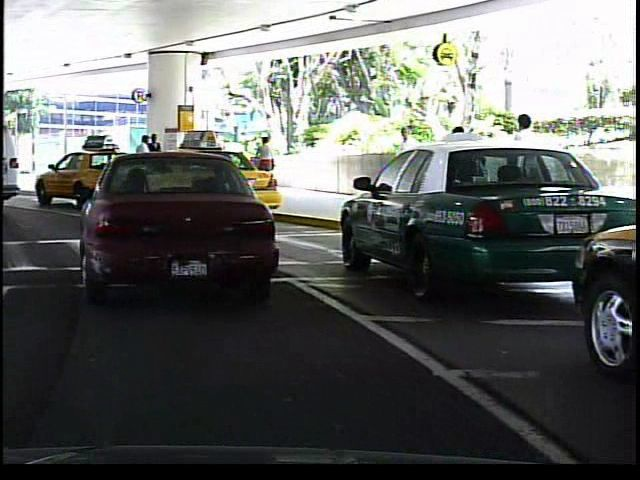person: (438, 114, 489, 227), (505, 107, 551, 231), (390, 119, 425, 206), (255, 133, 278, 192), (132, 132, 154, 188), (147, 129, 165, 188)
